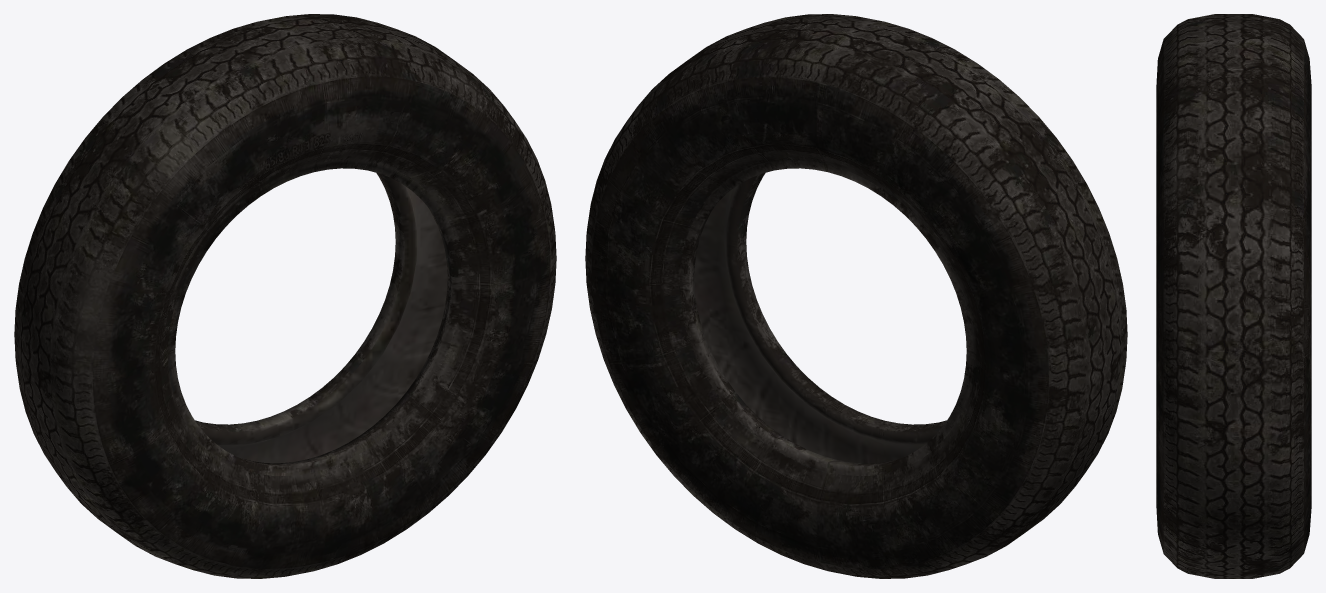
File: old-tyre.glb
3 views of the same model, side by side, from view 1: azimuth 30°, elevation 25°; view 2: azimuth 150°, elevation 25°; view 3: azimuth 270°, elevation 25° (orthographic). The views are drawn at different scales.
Parts seen in each view (by area): view 1: old_tyre; view 2: old_tyre; view 3: old_tyre.
Part boxes in pixels (x1,y1,x2,y2): old_tyre: [14, 14, 556, 578]; old_tyre: [585, 14, 1127, 578]; old_tyre: [1156, 14, 1311, 578].
Bounding box in the file's own units: 0.6 × 0.6 × 0.165.
Materials: 1 (1 with a texture image).
